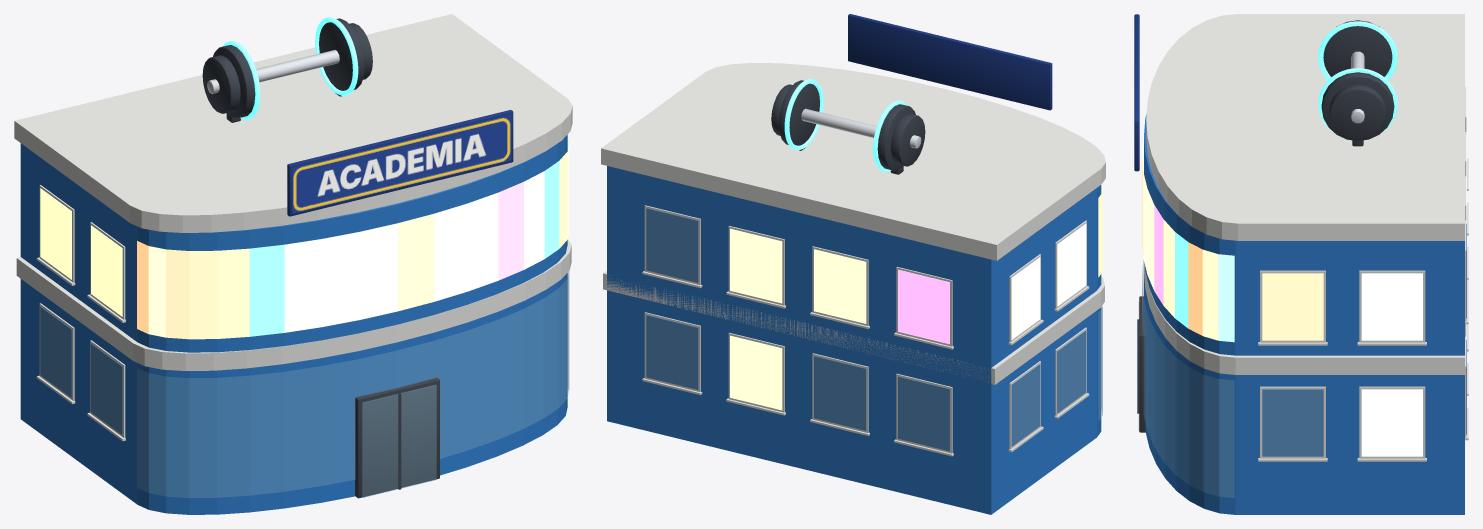
The model's file is academia_azul.glb.
3 renders of one model, left to right at view 1: azimuth 30°, elevation 25°; view 2: azimuth 150°, elevation 25°; view 3: azimuth 270°, elevation 25°, orthographic. The views are drawn at different scales.
Visible parts, largest first — view 1: academia_azul; view 2: academia_azul; view 3: academia_azul.
Boxes of the visible parts, x1,y1,x2,y2 form: academia_azul: (14,14,572,514); academia_azul: (601,14,1105,514); academia_azul: (1134,14,1468,514).
Bounding box in the file's own units: 12.98 × 10.64 × 8.75.
Materials: 12 (2 with a texture image).
